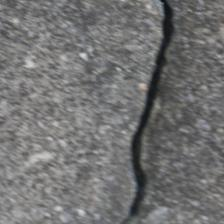Crack: (58, 1, 125, 217)
